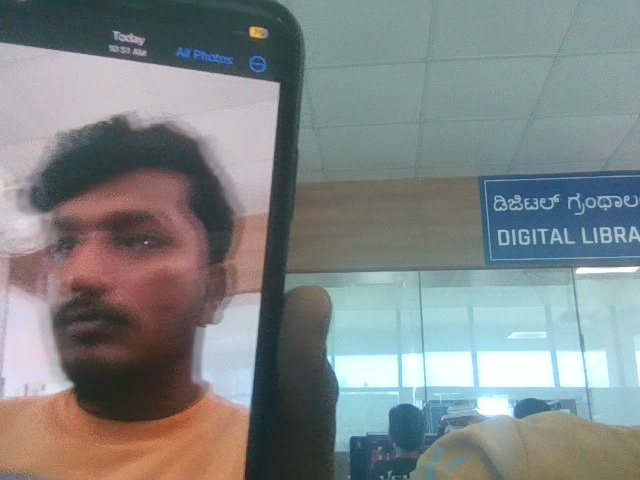fake: (12, 89, 232, 401)
